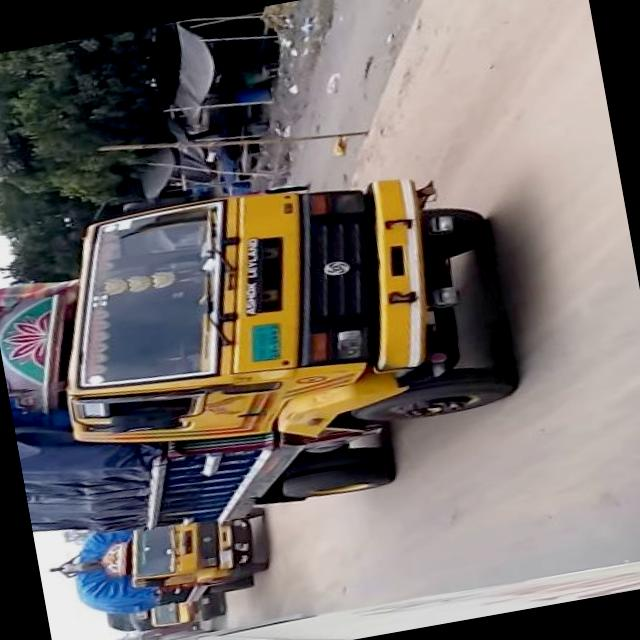bus: (55, 549, 640, 640)
truck: (0, 151, 534, 552), (50, 504, 274, 625), (102, 593, 222, 638)
